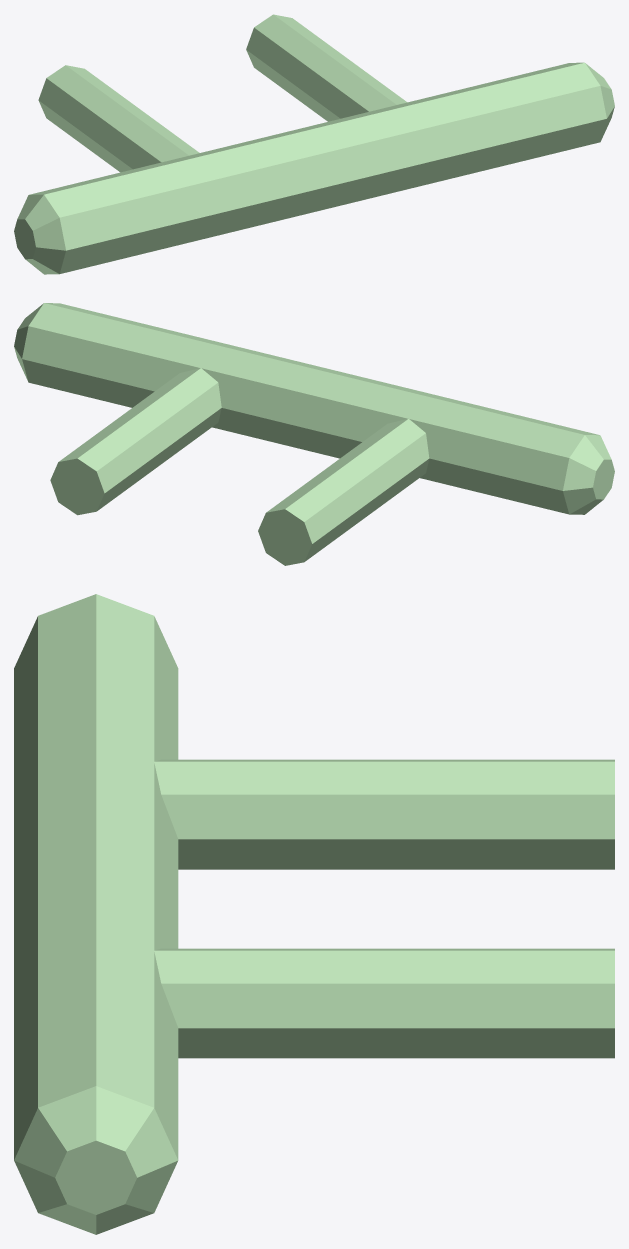
The model's file is Handle_Only.fbx.
3 renders of one model, top to bottom at view 1: azimuth 30°, elevation 25°; view 2: azimuth 150°, elevation 25°; view 3: azimuth 270°, elevation 25°, orthographic. The views are drawn at different scales.
Parts seen in each view (by area): view 1: handle; view 2: handle; view 3: handle.
Boxes of the visible parts, x1,y1,x2,y2 form: handle: (14,14,614,274); handle: (14,303,614,565); handle: (14,594,614,1234).
Bounding box in the file's own units: 0.8465 × 0.1116 × 0.4082.
